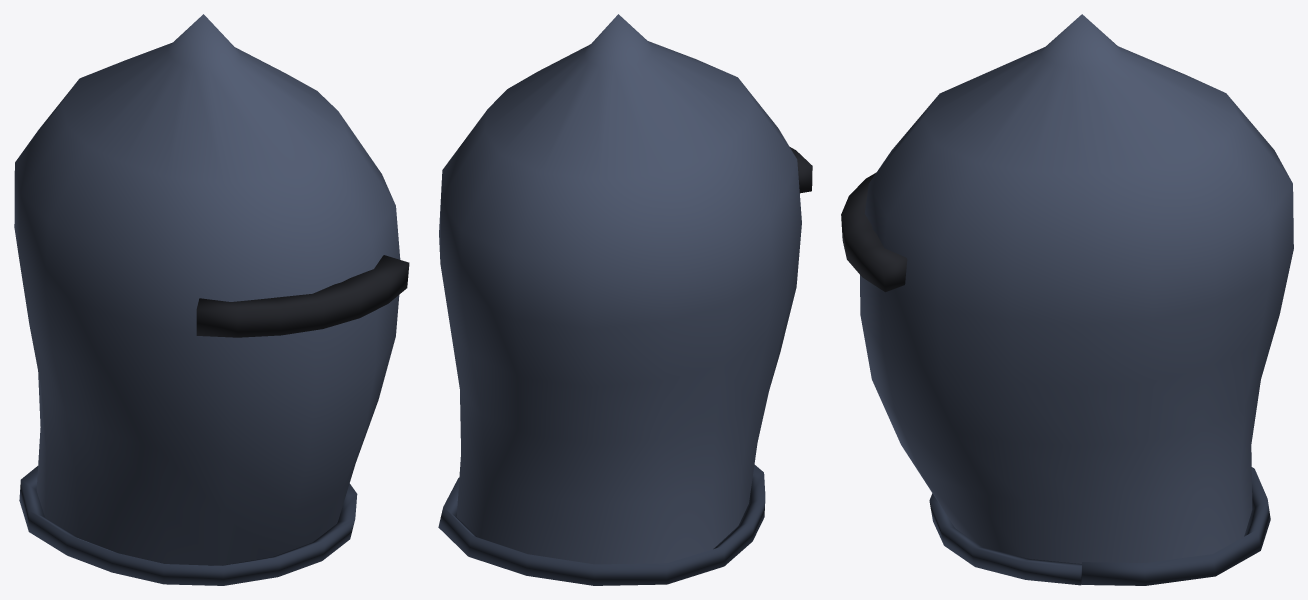
Rendered from lead_armor_head.glb.
3 renders of one model, left to right at view 1: azimuth 30°, elevation 25°; view 2: azimuth 150°, elevation 25°; view 3: azimuth 270°, elevation 25°, orthographic. The views are drawn at different scales.
Parts seen in each view (by area): view 1: lead_armor_head; view 2: lead_armor_head; view 3: lead_armor_head.
Boxes of the visible parts, x1,y1,x2,y2 form: lead_armor_head: (14,14,409,585); lead_armor_head: (438,14,812,585); lead_armor_head: (841,14,1293,585).
Size of the model in its own units: 0.215 by 0.3326 by 0.2687.
